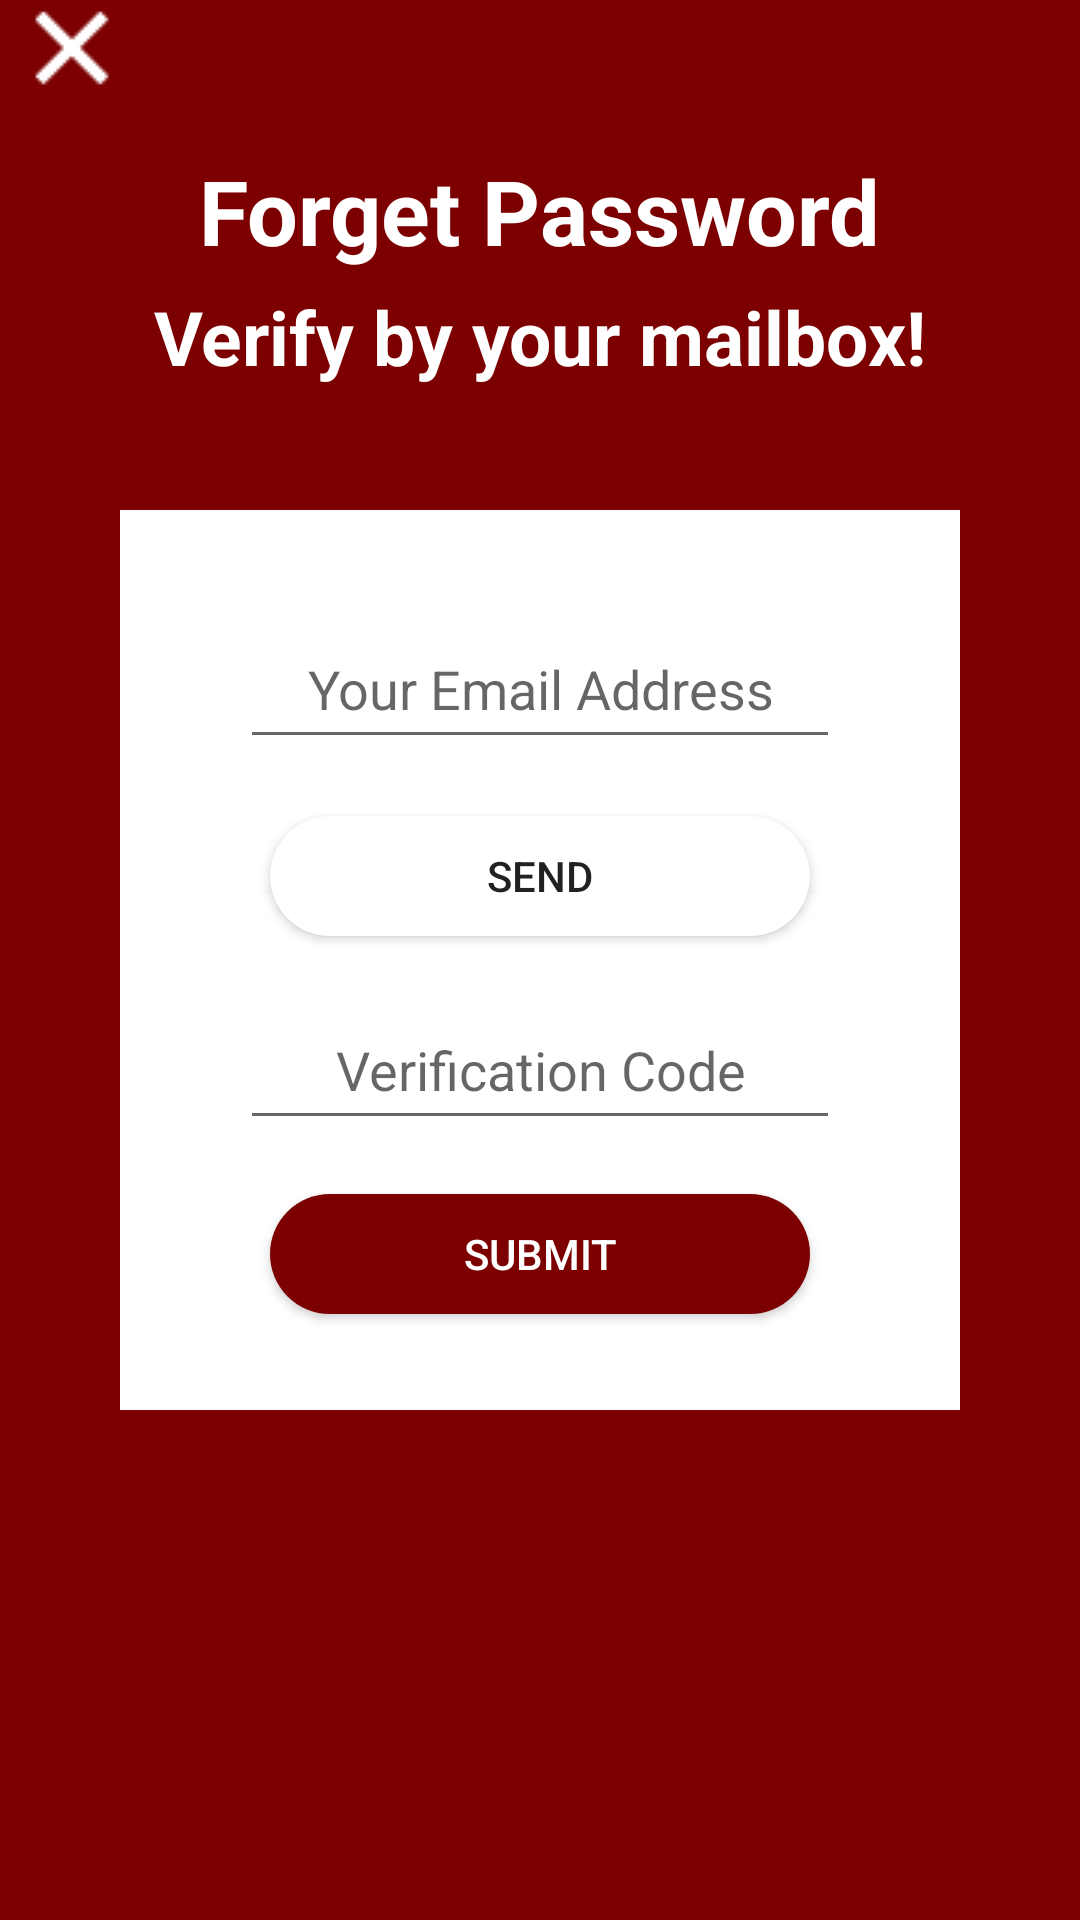

Icon bounding boxes for this 1080px×1920px phone screenshot, format (x1, y1, x2, y2):
cancel: (35, 11, 109, 85)
